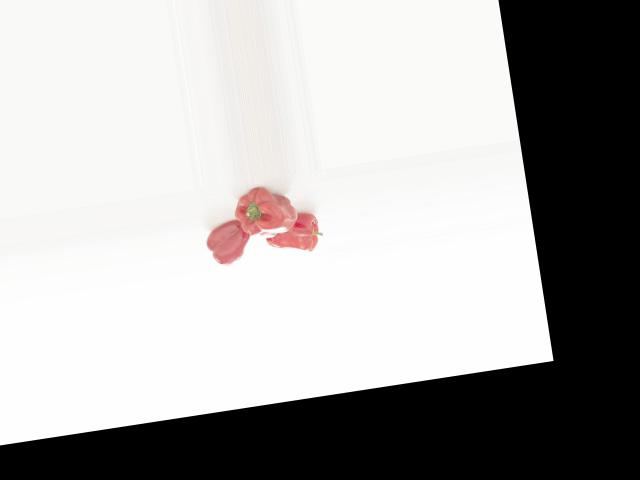bell_pepper: (200, 216, 251, 268)
